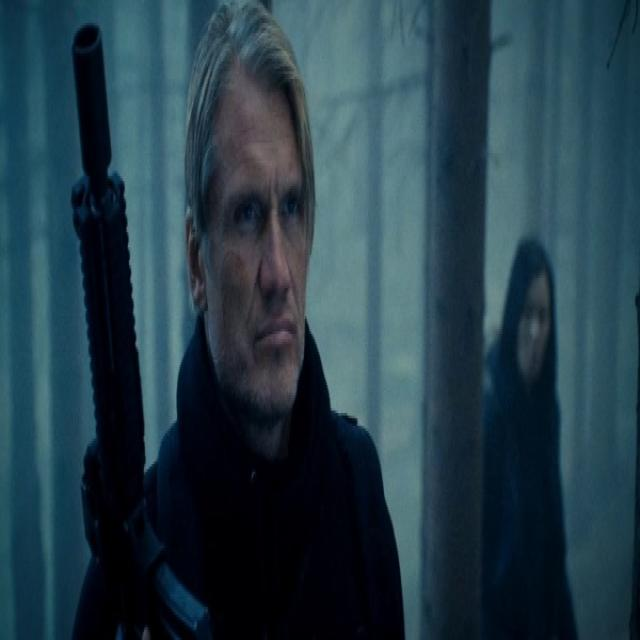rifle: (62, 10, 212, 640)
